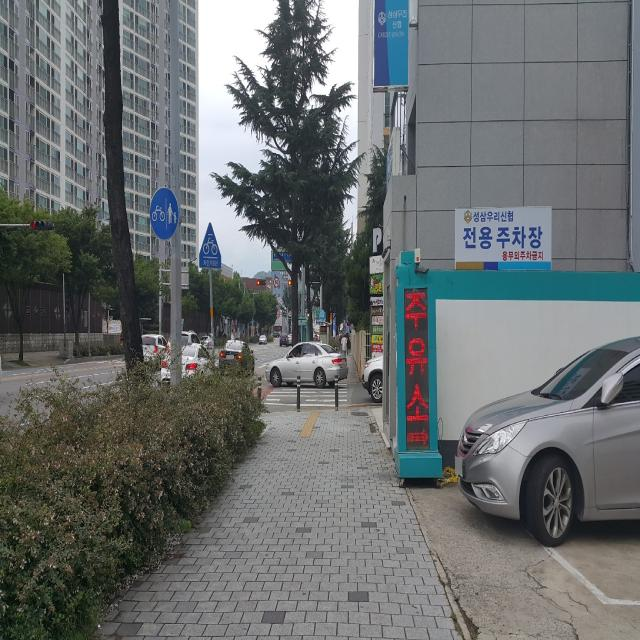횡단보도: (260, 382, 348, 408)
